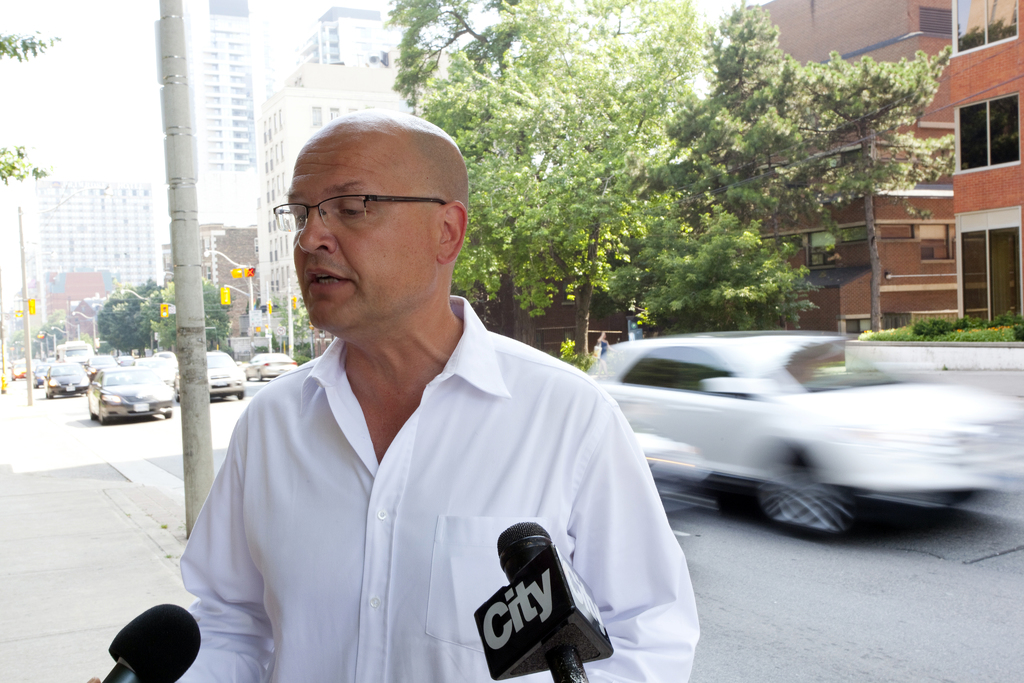Car: (586, 330, 1023, 544), (28, 347, 252, 426), (243, 353, 292, 384), (6, 358, 30, 381)
